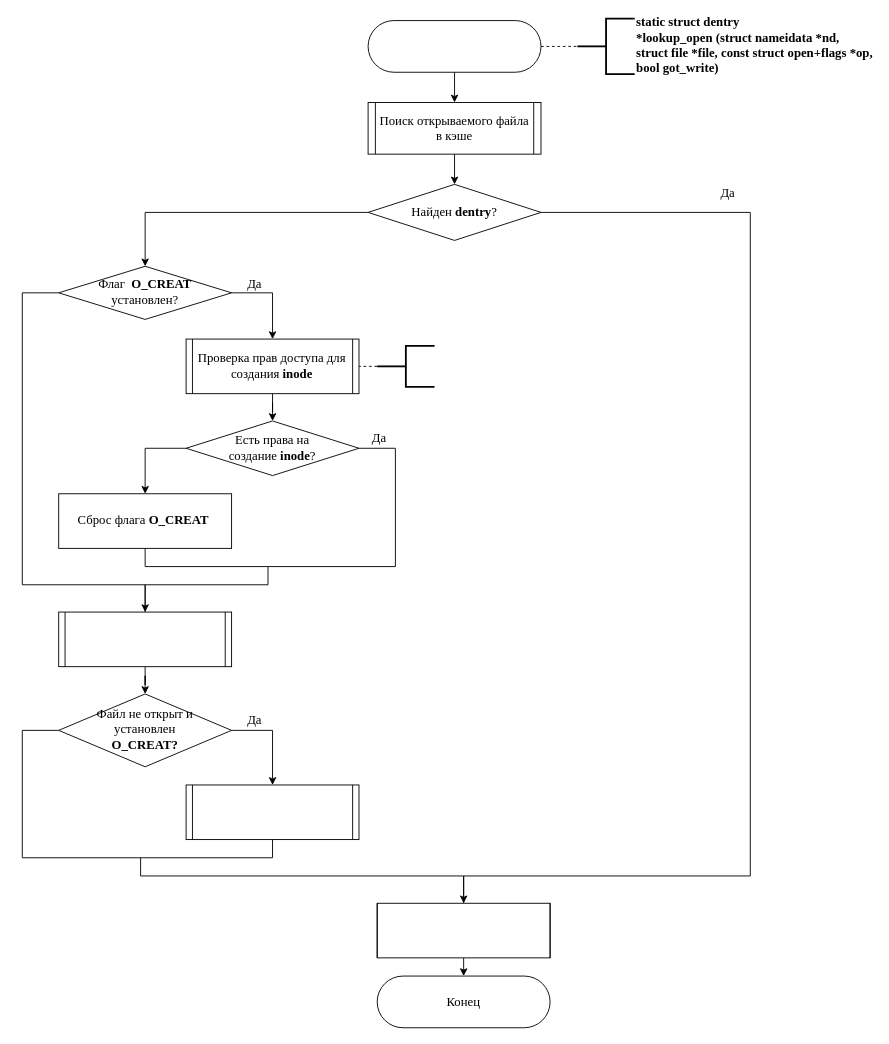
Some shapes in this 889 by 1044 pixel diagram are drawn without their labels. The shapes that lost their labels are listed below. From the top down, each one's centre as x and y in pixels, then its label:
At [454,46]: "Начало".
At [405,366]: "may_o_create() inode_permission() security_inode_create()".
At [145,639]: "Открытие файла".
At [272,812]: "Создание inode i_op->create()".
At [463,930]: "Возврат dentry *".
